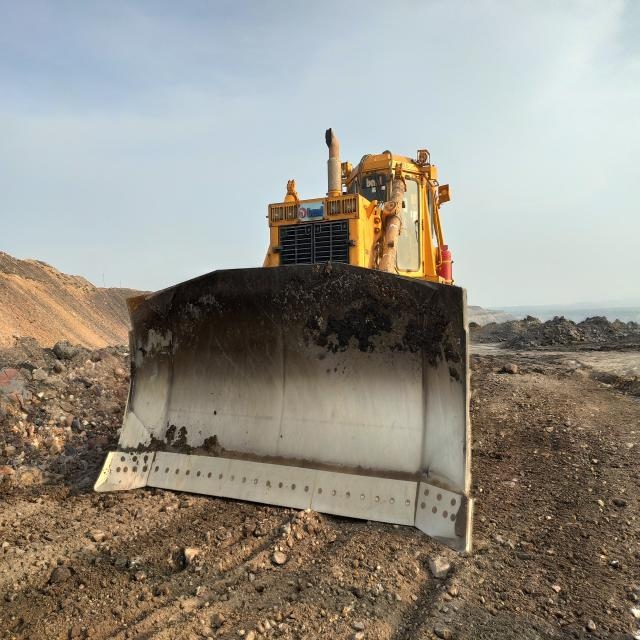buldozerpayloadergrader: (95, 130, 471, 552)
